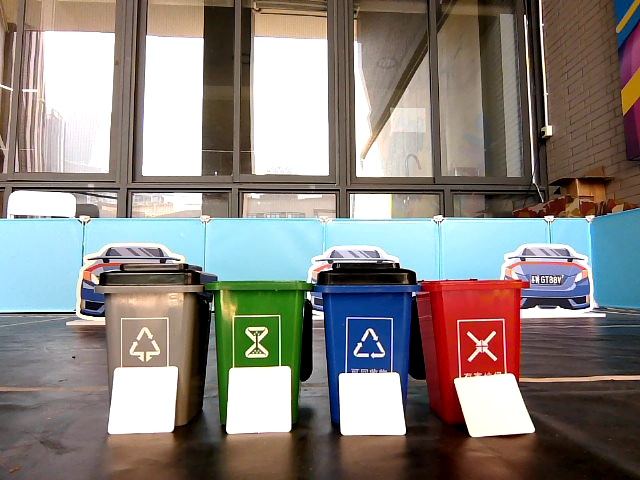blue_close: (319, 261, 407, 373)
green_open: (217, 280, 300, 363)
grey_close: (105, 263, 199, 368)
red_open: (427, 280, 515, 374)
